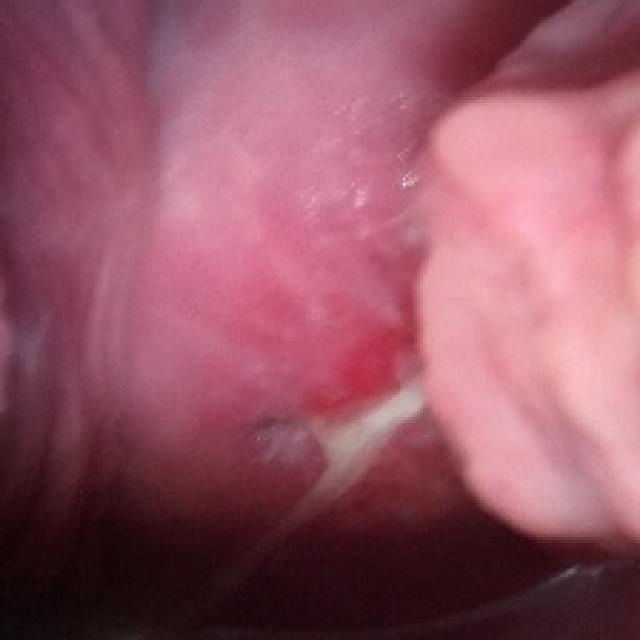type-2: (124, 7, 640, 561)
